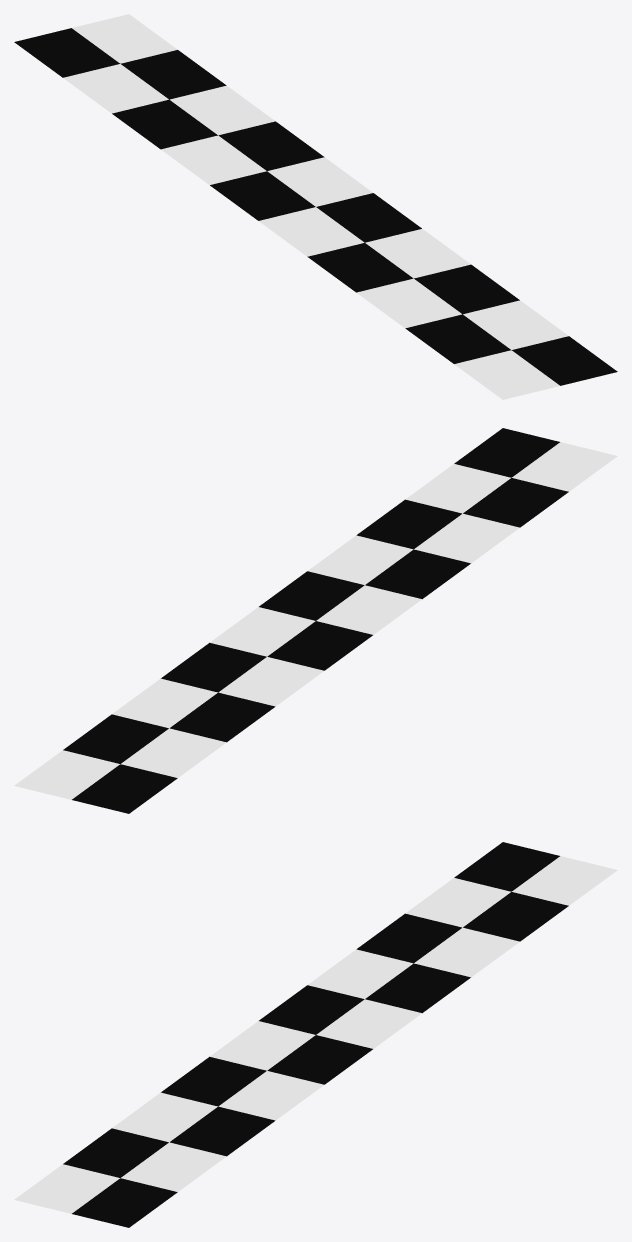
Rendered from FinishLine.fbx.
3 views of the same model, one above another, from view 1: azimuth 30°, elevation 25°; view 2: azimuth 150°, elevation 25°; view 3: azimuth 330°, elevation 25° (orthographic).
Visible parts, largest first — view 1: Cube.005; view 2: Cube.005; view 3: Cube.005.
Boxes of the visible parts, bbox=[...] form: Cube.005: bbox=[14, 14, 617, 399]; Cube.005: bbox=[14, 428, 617, 813]; Cube.005: bbox=[14, 842, 617, 1227].
Size of the model in its own units: 10.87 by 1.3e-05 by 80.
